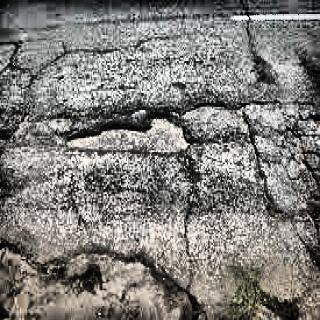alligator-crack: (237, 92, 320, 266)
crack: (0, 36, 133, 84), (178, 182, 199, 320), (237, 0, 259, 71)
pothole: (62, 104, 195, 161)
